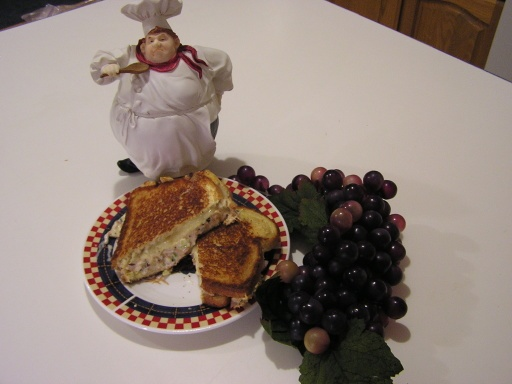background: (88, 98, 326, 230)
